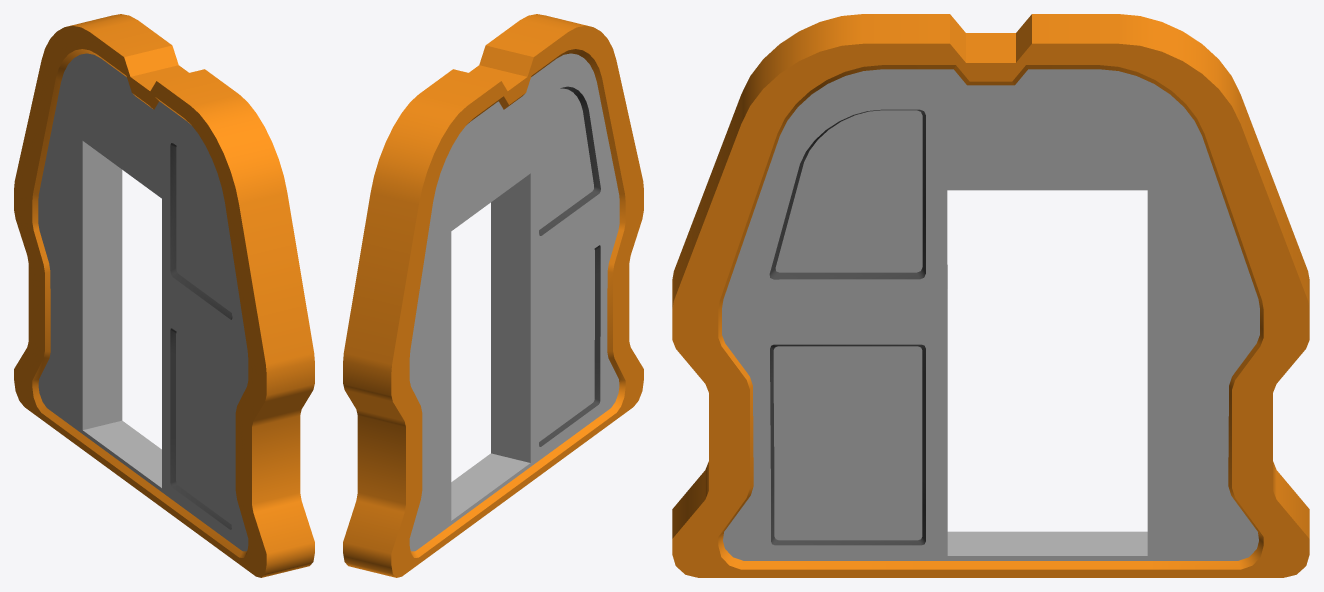
The model's file is FrameDoor02.fbx.
3 renders of one model, left to right at view 1: azimuth 30°, elevation 25°; view 2: azimuth 150°, elevation 25°; view 3: azimuth 270°, elevation 25°, orthographic. The views are drawn at different scales.
Parts seen in each view (by area): view 1: SM_FrameDoor02; view 2: SM_FrameDoor02; view 3: SM_FrameDoor02.
Boxes of the visible parts, box(x1,y1,x2,y2) form: SM_FrameDoor02: box(14, 14, 314, 577); SM_FrameDoor02: box(343, 14, 643, 577); SM_FrameDoor02: box(672, 14, 1309, 577).
Size of the model in its own units: 40 by 335 by 362.
